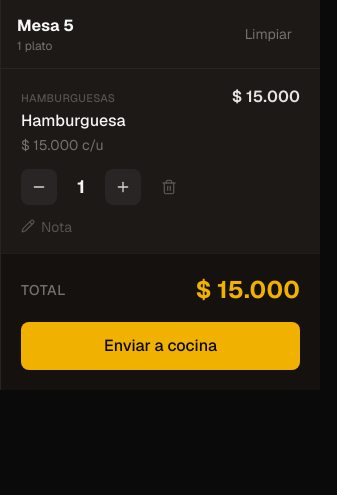
Test case: OrderSummary — notes › closes notes editor on Enter key
Click the button "Nota" at (46, 227), box [21, 217, 72, 237]
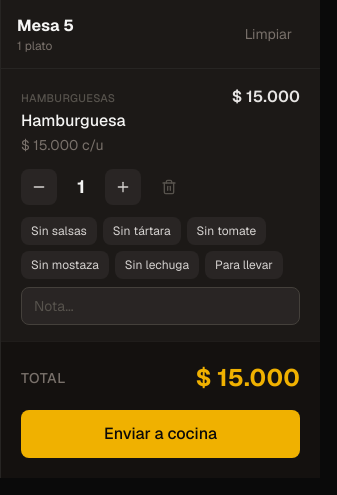
Note: Type something and press Enter
Type "Extra queso" into the field with placeholder "Nota..." at (160, 306), box [21, 287, 300, 325]
Then press Enter
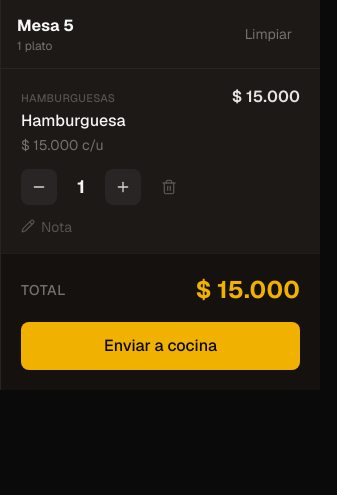
Result: the button "Sin salsas" is gone
